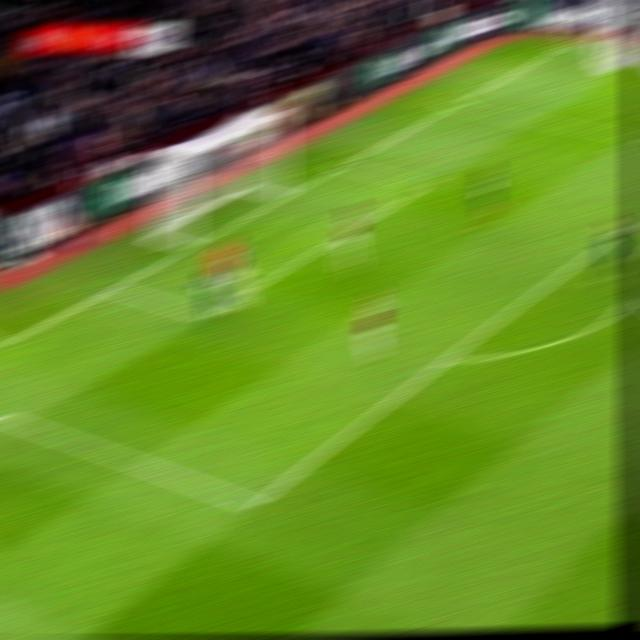bigarea_bottom_inner: (233, 487, 276, 527)
bigarea_top_outter: (435, 82, 475, 129)
bottom_arc_area_intersection: (428, 342, 467, 379)
corner: (552, 32, 588, 54)
smallarea_bottom_outter: (96, 262, 134, 311)
smallarea_top_inner: (409, 168, 448, 200)
smallarea_top_outter: (326, 152, 361, 181)
